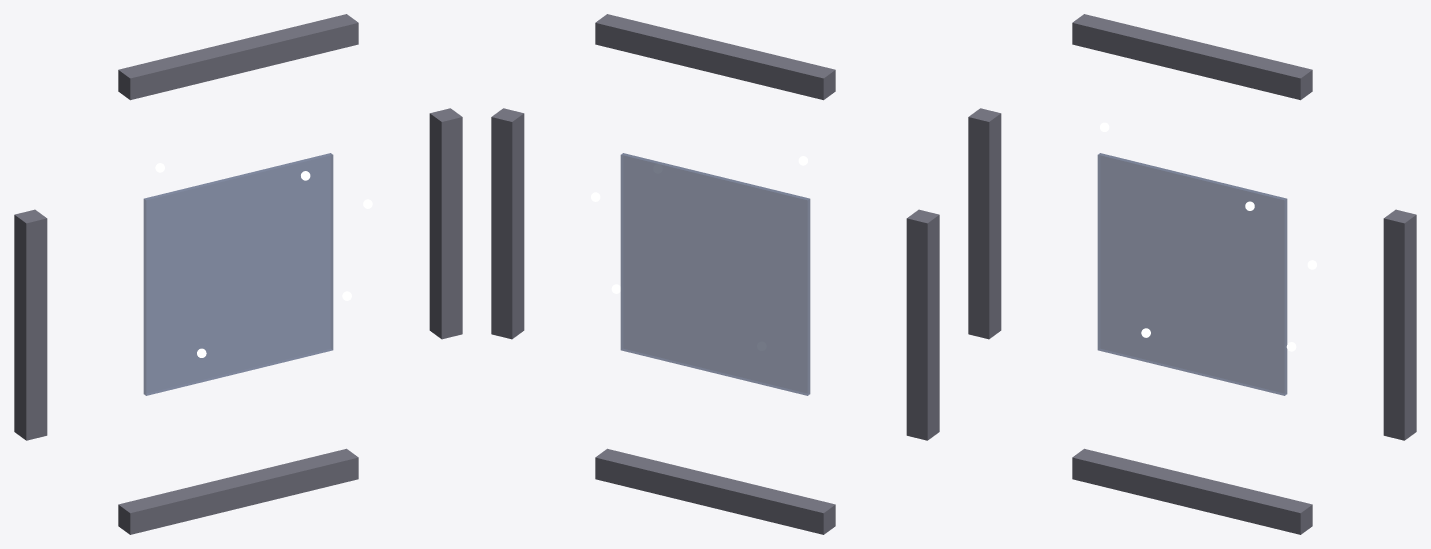
File: space_window.glb
3 renders of one model, left to right at view 1: azimuth 30°, elevation 25°; view 2: azimuth 150°, elevation 25°; view 3: azimuth 330°, elevation 25°, orthographic.
Parts seen in each view (by area): view 1: Cube.004, Cube.002, Cube.003, Cube, Cube.001; view 2: Cube.004, Cube.002, Cube.003, Cube, Cube.001; view 3: Cube.004, Cube.002, Cube.003, Cube, Cube.001.
Boxes of the visible parts, x1=… form: Cube.004: x1=143, y1=153, x2=333, y2=395; Cube.002: x1=118, y1=14, x2=358, y2=100; Cube.003: x1=118, y1=448, x2=358, y2=534; Cube: x1=14, y1=209, x2=47, y2=440; Cube.001: x1=429, y1=108, x2=462, y2=339; Cube.004: x1=620, y1=153, x2=810, y2=395; Cube.002: x1=595, y1=14, x2=835, y2=100; Cube.003: x1=595, y1=448, x2=835, y2=534; Cube: x1=906, y1=209, x2=939, y2=440; Cube.001: x1=491, y1=108, x2=524, y2=339; Cube.004: x1=1097, y1=153, x2=1287, y2=395; Cube.002: x1=1072, y1=14, x2=1312, y2=100; Cube.003: x1=1072, y1=448, x2=1312, y2=534; Cube: x1=968, y1=108, x2=1001, y2=339; Cube.001: x1=1383, y1=209, x2=1416, y2=440.
Bounding box in the file's own units: 1.05 × 1.05 × 0.055.
